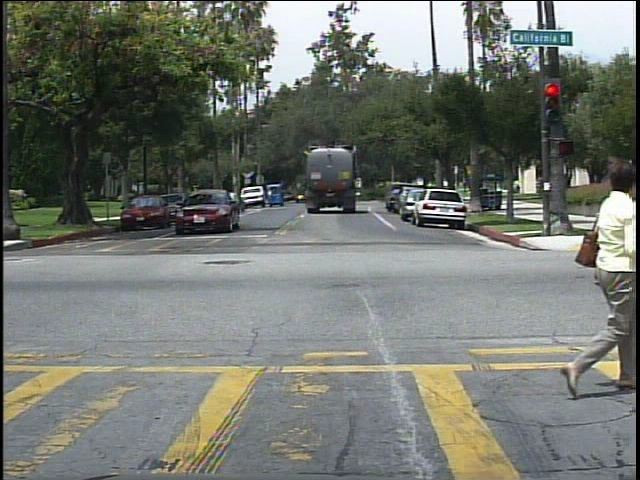person: (551, 135, 637, 408), (513, 180, 526, 199)
